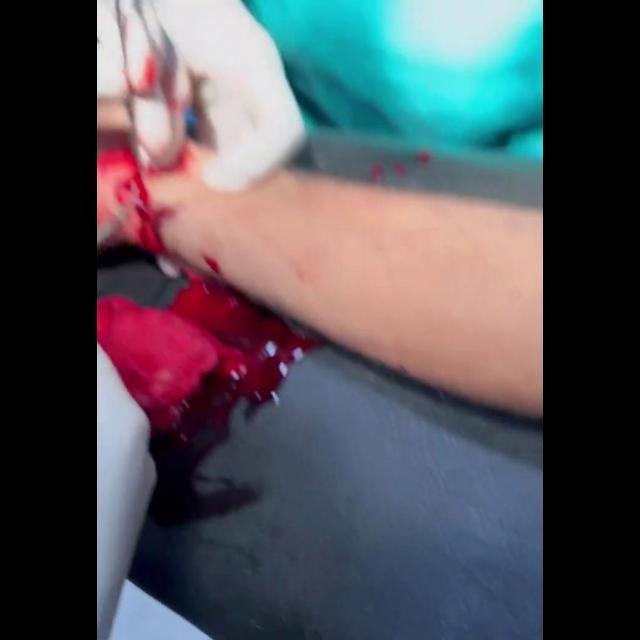blood: (97, 269, 321, 524), (98, 149, 170, 255)
